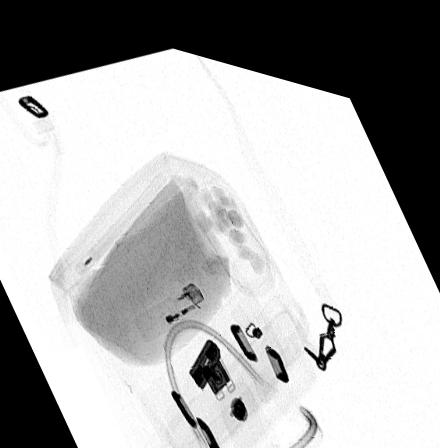Lighter: (131, 271, 208, 335)
